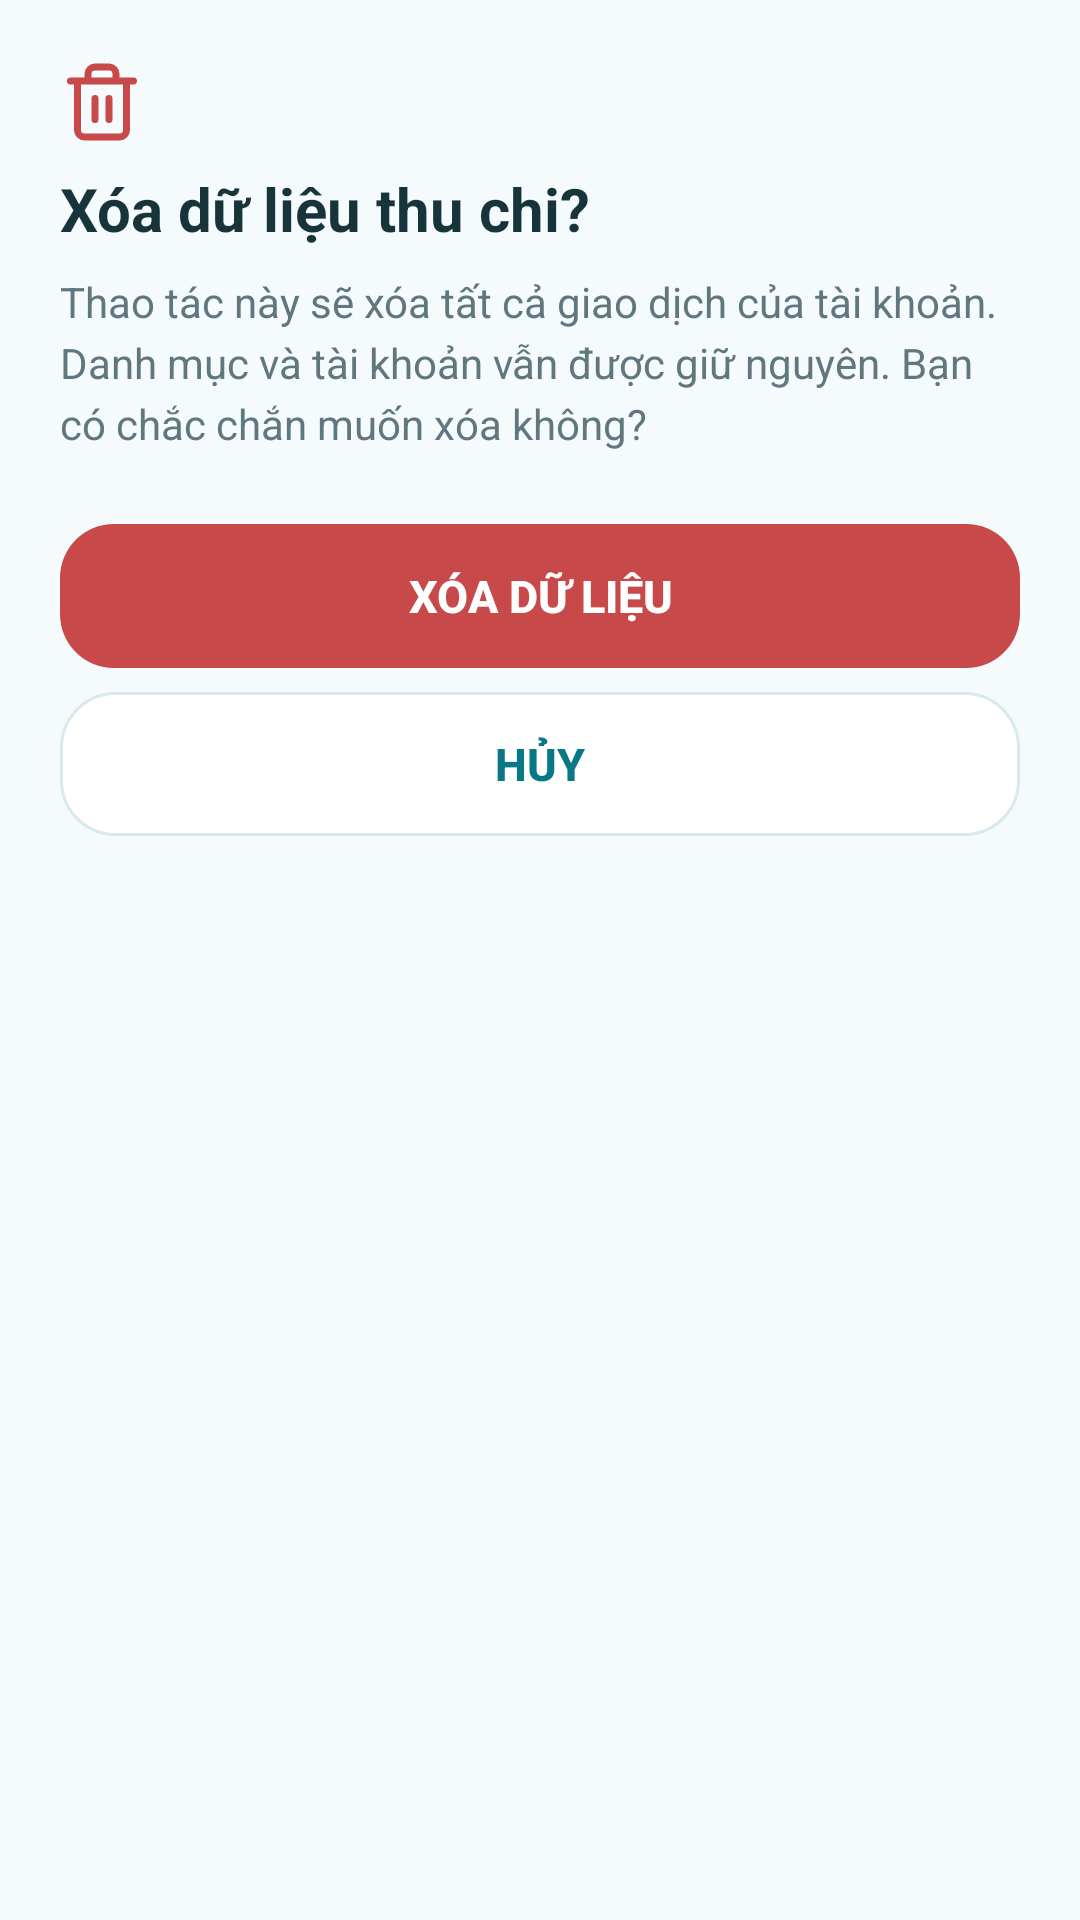

Named icons in this screenshot (1080×1920) and their centers, (x=x, y=y):
trash custom: (x=102, y=102)
